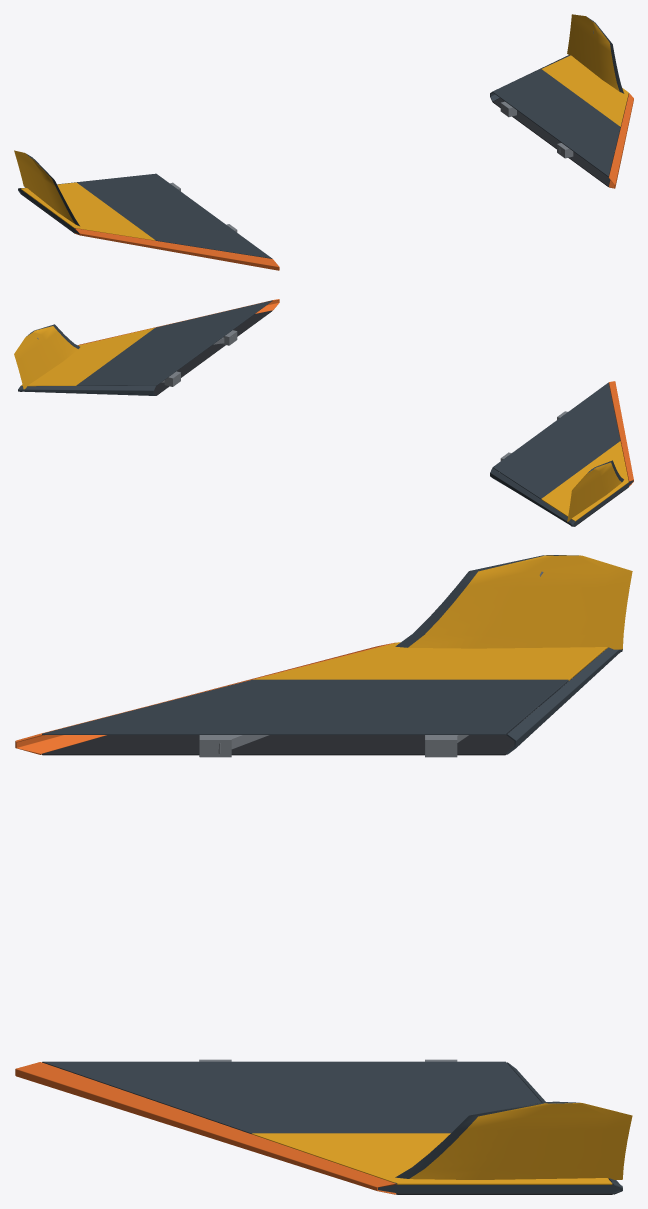
The model's file is bastion_wing_stock.fbx.
The picture shows the model from 3 angles, top to bottom: view 1: azimuth 30°, elevation 25°; view 2: azimuth 150°, elevation 25°; view 3: azimuth 270°, elevation 25°; orthographic projection. The views are drawn at different scales.
Parts seen in each view (by area): view 1: Wing_Top_L, Wing_Top_R, Wing_Fold_R, Wing_LE_L, Wing_Fold_L, Wing_Bottom_R, Wing_LE_R, Wing_Structure_R; view 2: Wing_Top_L, Wing_Top_R, Wing_Fold_R, Wing_Fold_L, Wing_TE_R, Wing_Bottom_R, Wing_TE_L, Wing_LE_L, Wing_Structure_R; view 3: Wing_Top_R, Wing_Top_L, Wing_Fold_L, Wing_Fold_R, Wing_Bottom_L, Wing_LE_R, Wing_TE_L, Wing_Tip_R, Wing_Structure_L, Wing_LE_L.
Boxes of the visible parts, box(x1,y1,x2,y2) form: Wing_Top_L: box(21, 173, 272, 258); Wing_Top_R: box(492, 55, 628, 176); Wing_Fold_R: box(567, 14, 624, 93); Wing_LE_L: box(75, 228, 279, 270); Wing_Fold_L: box(14, 150, 79, 226); Wing_Bottom_R: box(492, 98, 626, 186); Wing_LE_R: box(608, 93, 633, 188); Wing_Structure_R: box(500, 99, 627, 158); Wing_Top_L: box(492, 382, 628, 521); Wing_Top_R: box(21, 300, 272, 386); Wing_Fold_R: box(14, 324, 79, 389); Wing_Fold_L: box(567, 460, 623, 521); Wing_TE_R: box(18, 385, 155, 395); Wing_Bottom_R: box(154, 310, 271, 395); Wing_TE_L: box(490, 468, 574, 526); Wing_LE_L: box(609, 381, 633, 486); Wing_Structure_R: box(161, 330, 237, 386); Wing_Top_R: box(42, 1061, 612, 1184); Wing_Top_L: box(42, 642, 606, 734); Wing_Fold_L: box(395, 555, 632, 649); Wing_Fold_R: box(395, 1101, 632, 1179); Wing_Bottom_L: box(42, 658, 595, 755); Wing_LE_R: box(15, 1062, 396, 1194); Wing_TE_L: box(506, 647, 622, 754); Wing_Tip_R: box(378, 1182, 622, 1194); Wing_Structure_L: box(199, 650, 604, 757); Wing_LE_L: box(15, 642, 395, 754).
Size of the model in its own units: 402 by 33.71 by 191.
